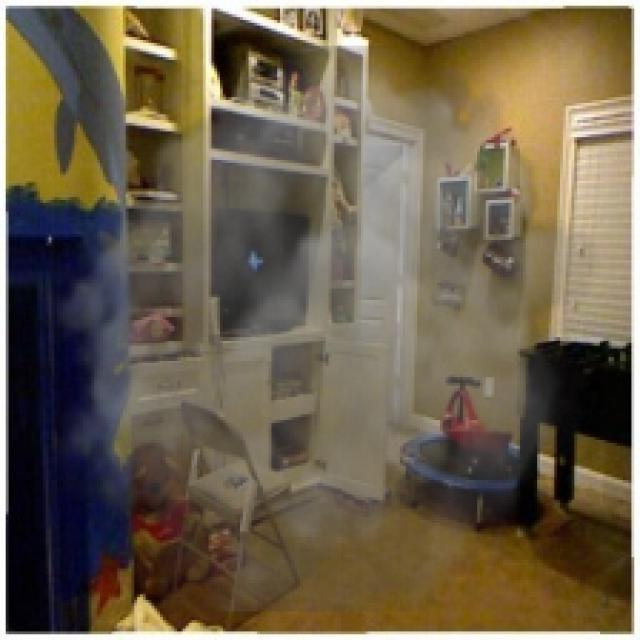Smoke: (34, 46, 600, 612)
